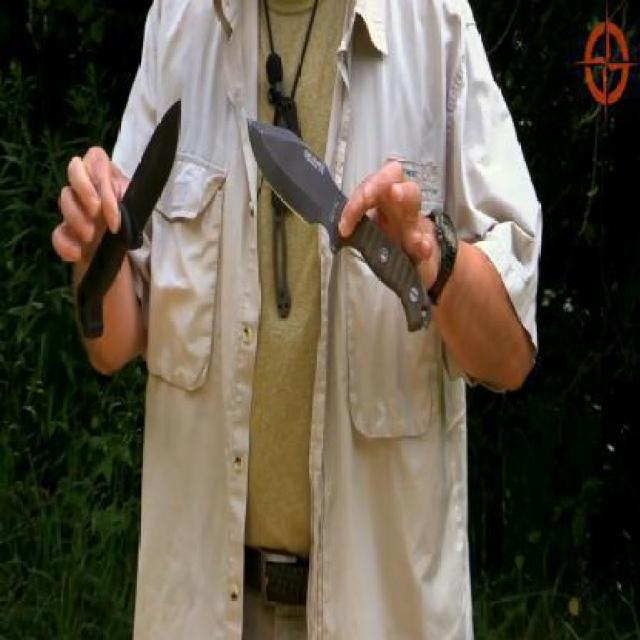knife: (244, 111, 433, 335), (74, 91, 181, 346)
